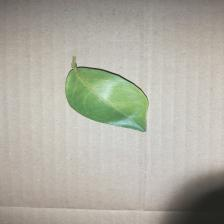greening: (62, 55, 150, 132)
